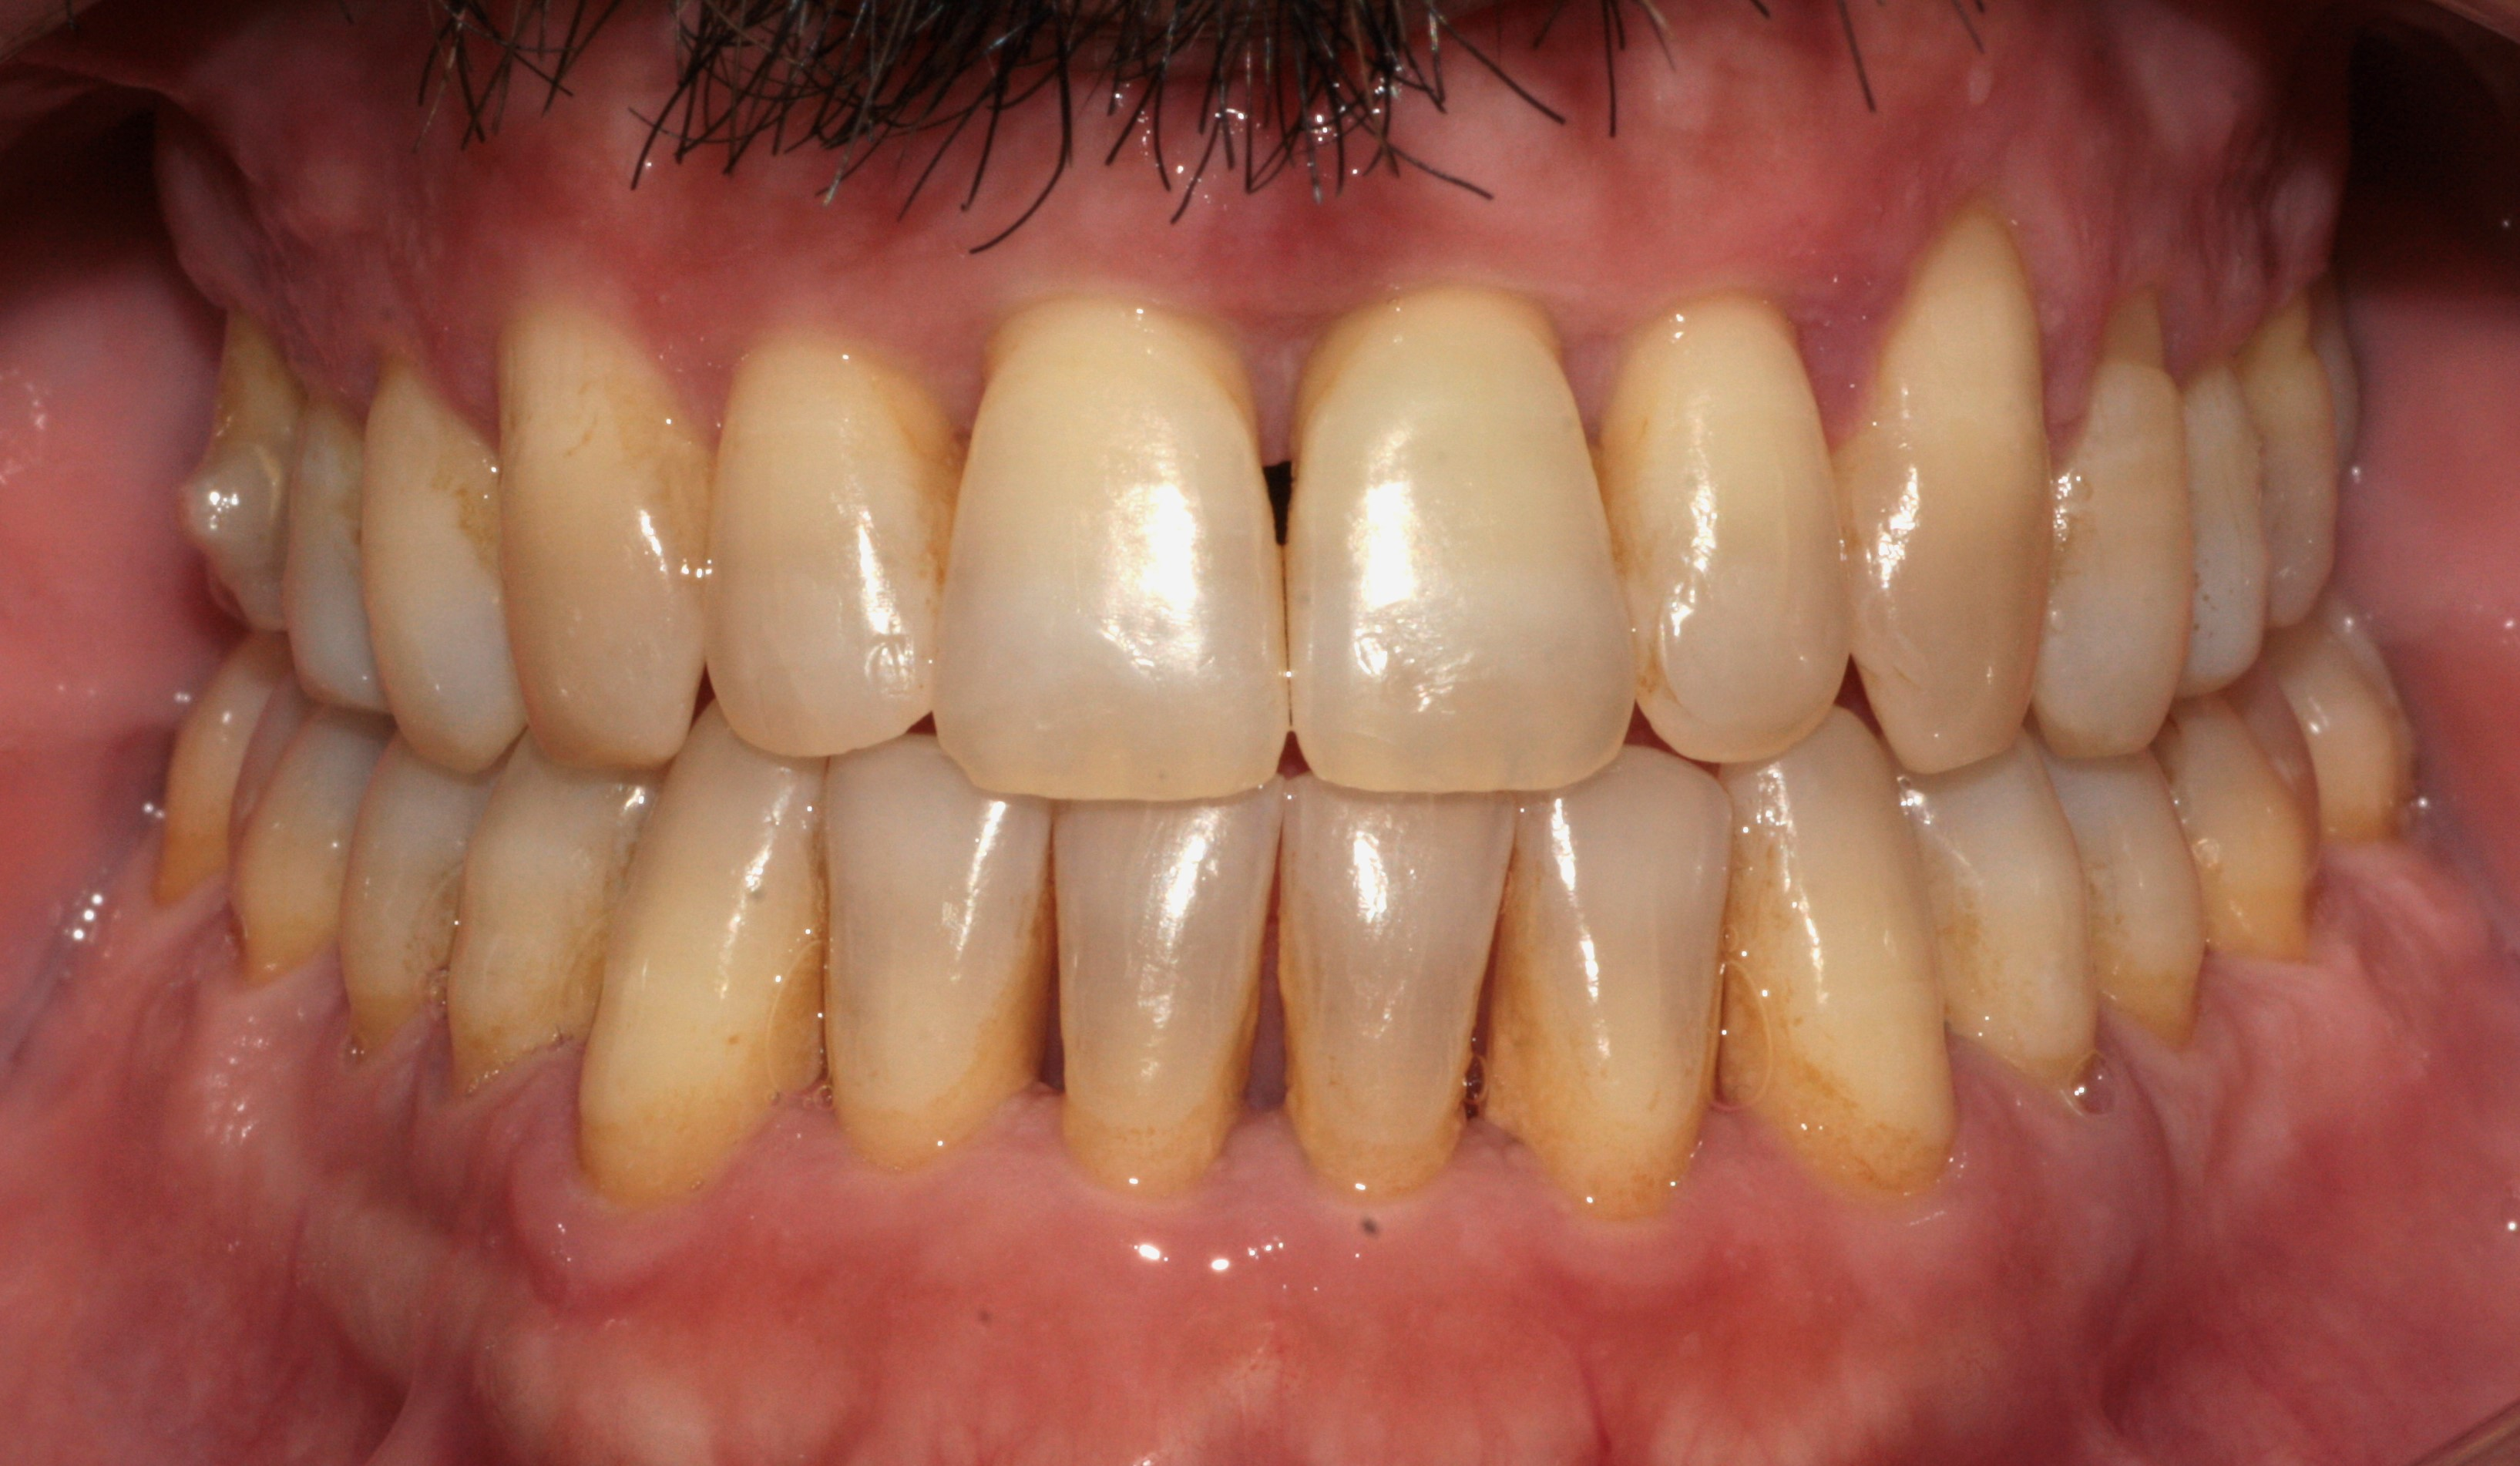LL1BC_mdecay: (1918, 766, 2089, 1089)
LL1M_mdecay: (2178, 721, 2323, 951)
LL2BC_mdecay: (2088, 771, 2203, 1052)
LL2M_mdecay: (2279, 651, 2421, 832)
LLCI_mdecay: (1278, 791, 1496, 1194)
LLC_mdecay: (1735, 766, 1962, 1195)
LLLI_mdecay: (1505, 780, 1732, 1216)
LR1BC_mdecay: (452, 773, 591, 1077)
LR1M_mdecay: (230, 707, 344, 976)
LR2BC_mdecay: (344, 759, 459, 1061)
LR2M_mdecay: (162, 654, 230, 904)
LRCI_mdecay: (1053, 805, 1273, 1185)
LRC_mdecay: (581, 791, 827, 1229)
LRLI_mdecay: (823, 764, 1041, 1171)
UL1BC_mdecay: (2046, 353, 2185, 757)
UL1M_mdecay: (2269, 333, 2335, 625)
UL2BC_mdecay: (2190, 354, 2262, 689)
ULCI_healthy: (1292, 307, 1631, 792)
ULC_healthy: (1850, 232, 2046, 771)
ULLI_healthy: (1631, 291, 1843, 764)
UR1BC_mdecay: (359, 380, 507, 771)
UR1M_sdecay: (180, 326, 281, 634)
UR2BC_mdecay: (286, 419, 371, 709)
URCI_healthy: (933, 330, 1289, 792)
URC_healthy: (499, 318, 699, 770)
URLI_healthy: (703, 351, 926, 747)
